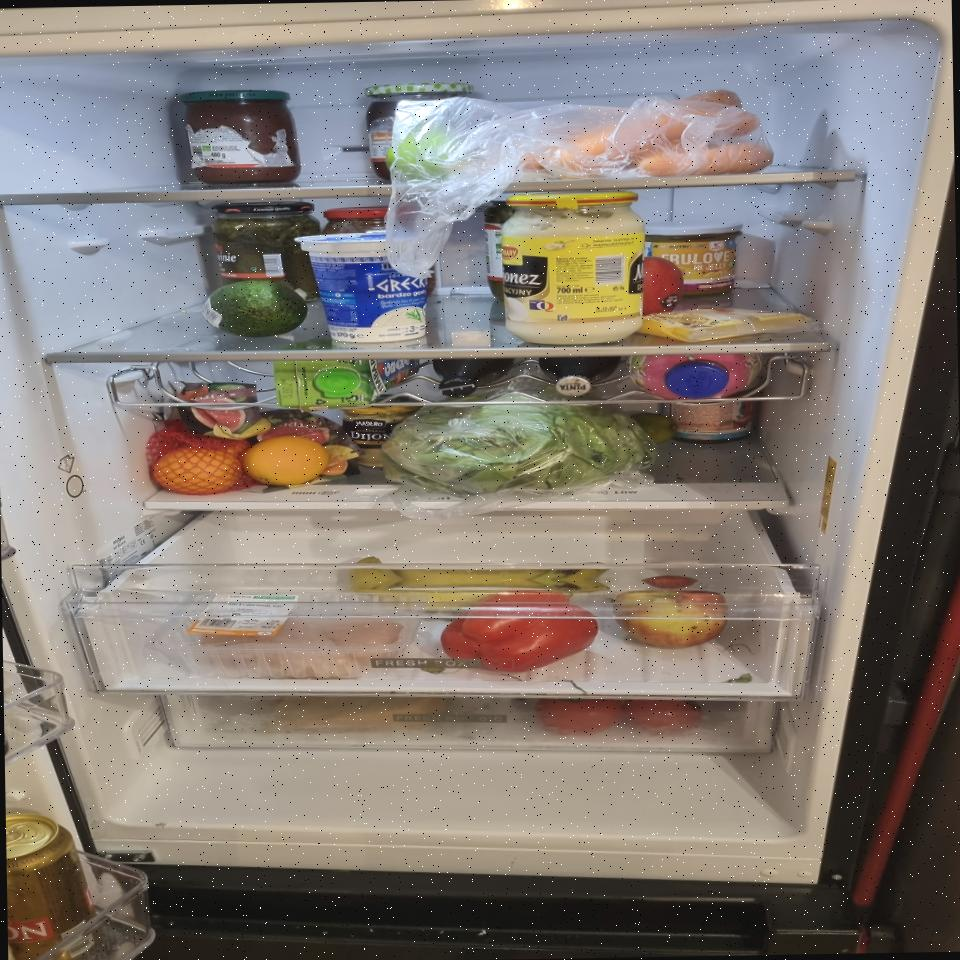Aguacate: (199, 280, 308, 338)
Carne pollo: (155, 588, 429, 684)
Lechuga/Endivia: (382, 385, 658, 498)
Manzana: (612, 573, 731, 648), (642, 256, 686, 317)
Plátano: (348, 552, 612, 612)
Queso: (268, 692, 449, 732), (636, 306, 810, 344)
Tomate: (534, 696, 622, 737), (622, 698, 704, 735)
Yogur: (292, 230, 431, 344)
Zanahoria: (516, 87, 774, 178)
